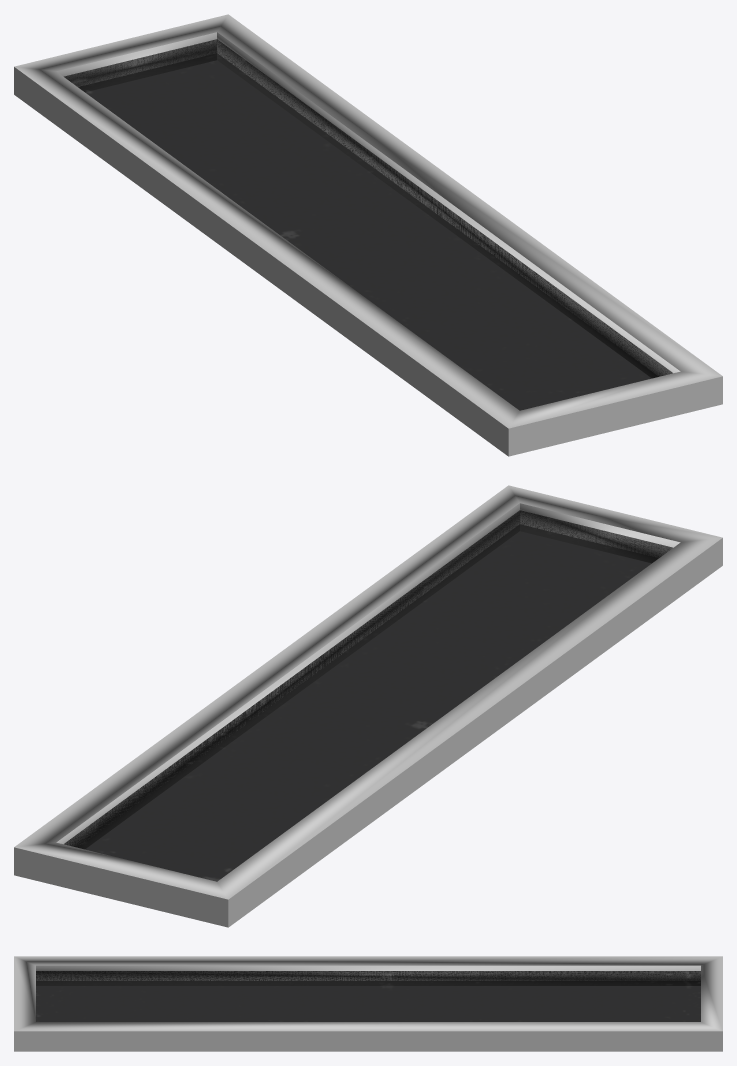
The model's file is glass_hx2.fbx.
3 renders of one model, top to bottom at view 1: azimuth 30°, elevation 25°; view 2: azimuth 150°, elevation 25°; view 3: azimuth 270°, elevation 25°, orthographic. The views are drawn at different scales.
Visible parts, largest first — view 1: glass_hx2; view 2: glass_hx2; view 3: glass_hx2.
Part boxes in pixels (x1,y1,x2,y2): glass_hx2: [14, 14, 722, 456]; glass_hx2: [14, 485, 722, 927]; glass_hx2: [14, 956, 722, 1051].
Size of the model in its own units: 20.02 by 2.5 by 79.97.
